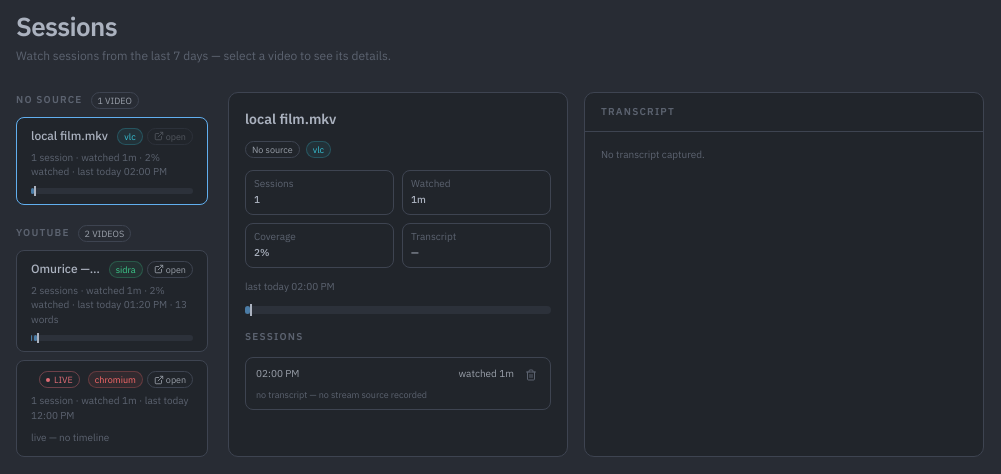
Test: SessionsSurface › fetches a missing transcript for a stream-backed session (#1)
Click the button with aria-label "Some dev video — view details". click: x=112, y=409
box: [16,360,208,457]
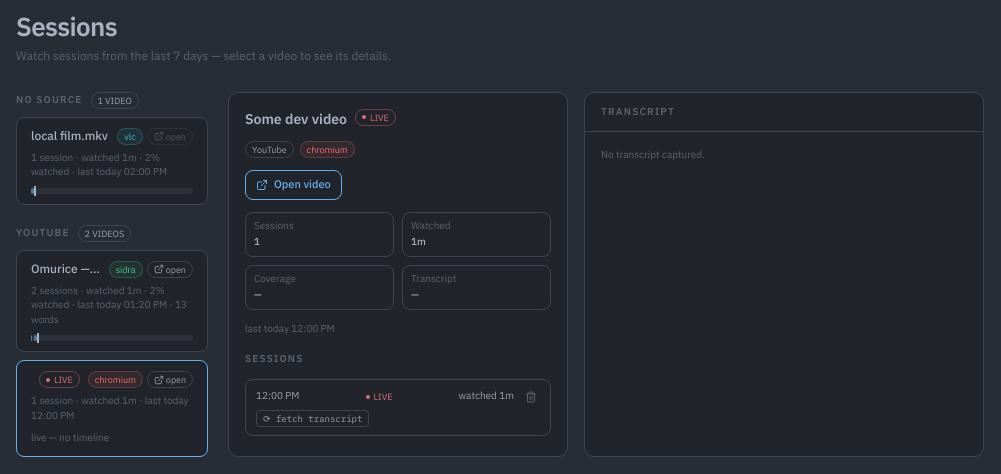
Click the button "⟳ fetch transcript". click: x=313, y=418
box: [256,410,369,427]
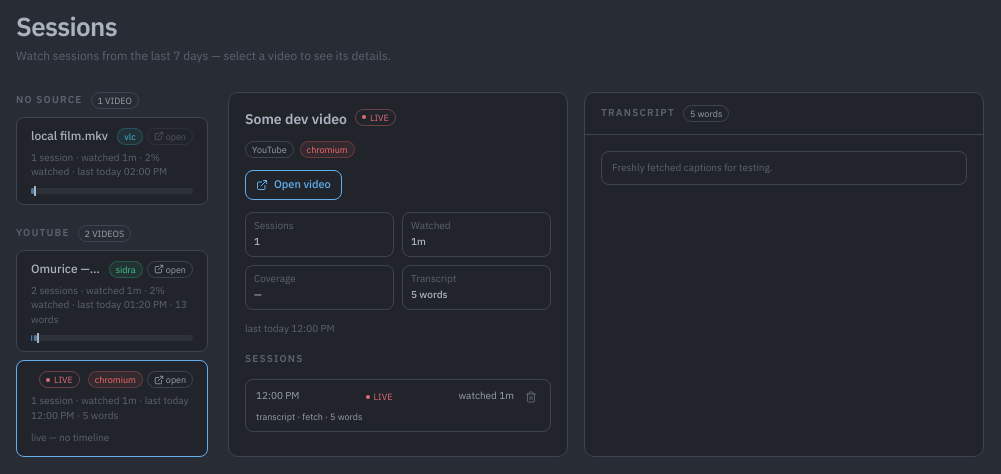
Now the text "transcript · fetch · 5 words" is shown, box [256,410,362,423]
Now the button "⟳ fetch transcript" is gone
